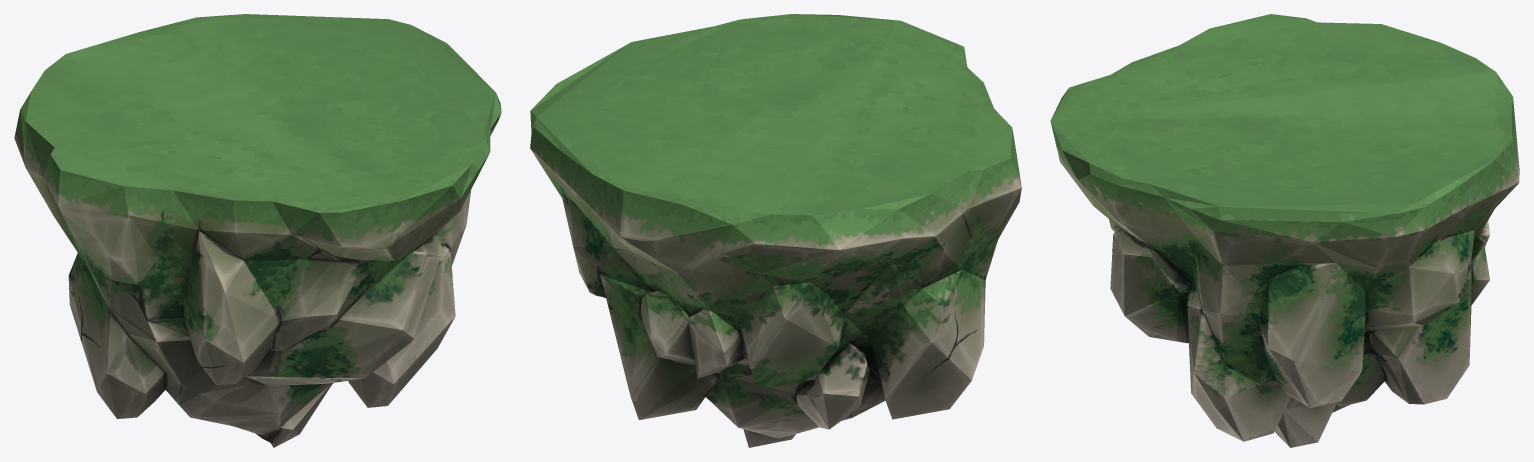
Rendered from floating_island.glb.
3 views of the same model, side by side, from view 1: azimuth 30°, elevation 25°; view 2: azimuth 150°, elevation 25°; view 3: azimuth 270°, elevation 25° (orthographic). The views are drawn at different scales.
Visible parts, largest first — view 1: island lowpoly ultra.007; view 2: island lowpoly ultra.007; view 3: island lowpoly ultra.007.
Boxes of the visible parts, x1=… form: island lowpoly ultra.007: x1=14, y1=14, x2=501, y2=447; island lowpoly ultra.007: x1=530, y1=14, x2=1021, y2=447; island lowpoly ultra.007: x1=1050, y1=14, x2=1519, y2=447.
Size of the model in its own units: 11.51 by 8.5 by 11.32.
Materials: 1 (1 with a texture image).
